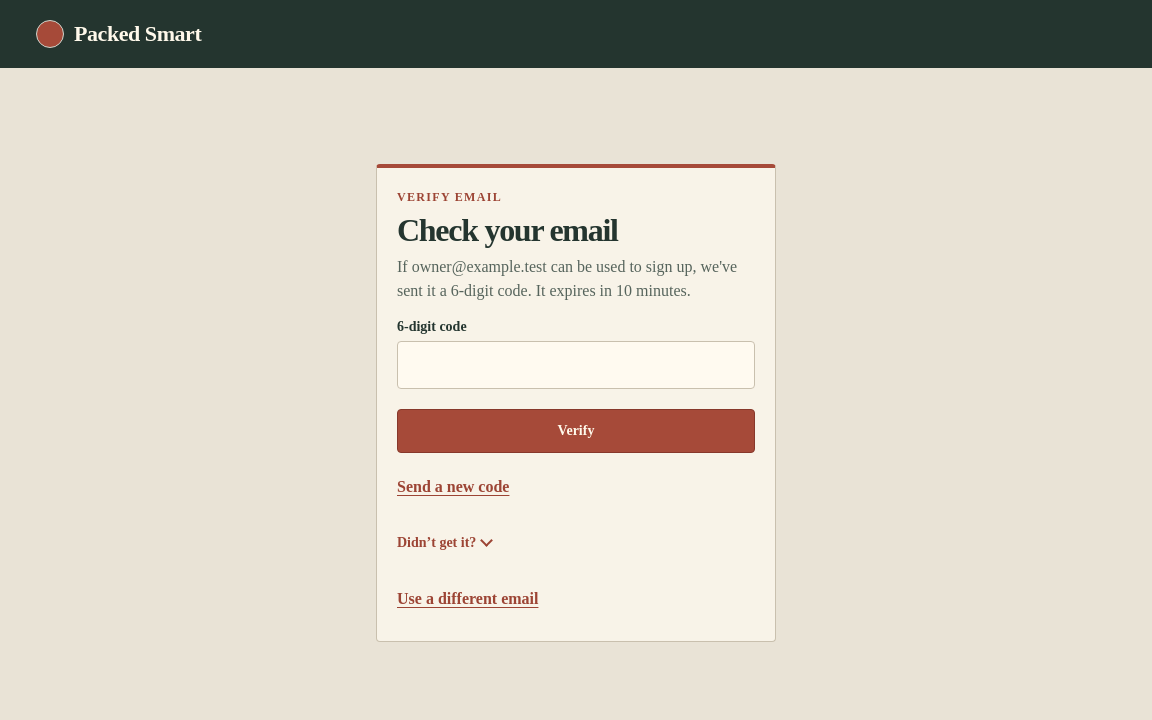
VerifyForm › strips anything but digits from what is typed or pasted
Step 1. Type "12 3-4x56" into the field labelled "6-digit code" → (576,365), box x1=397 y1=341 x2=755 y2=389
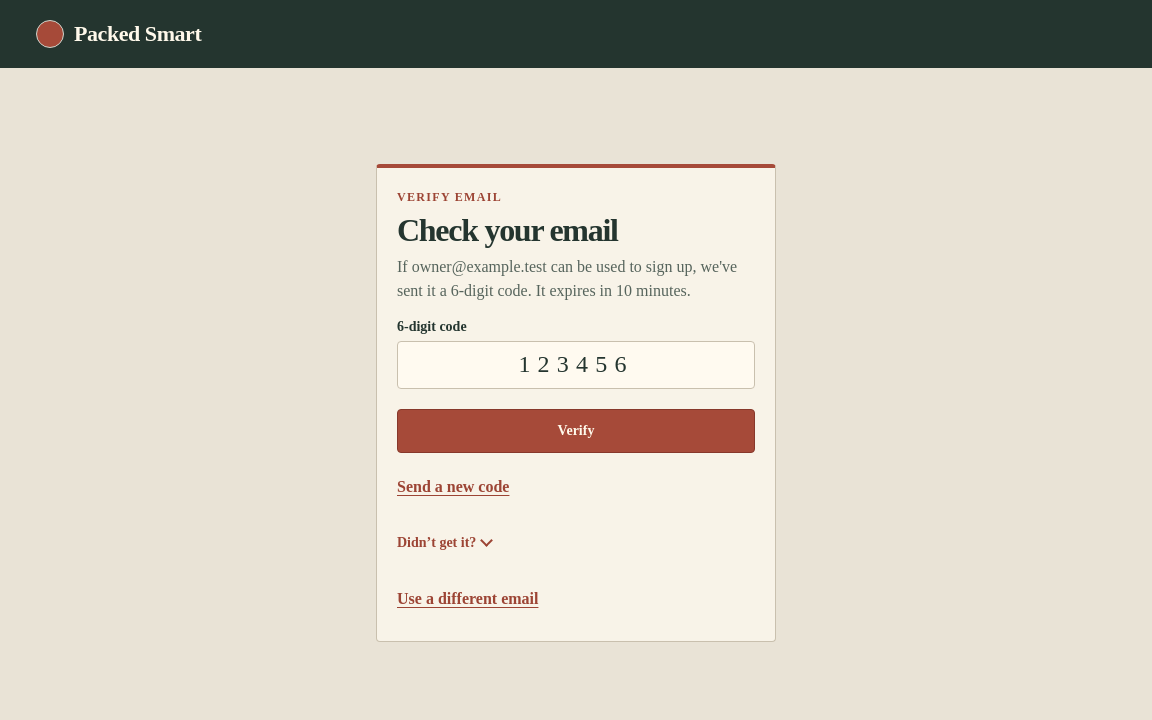
Expected: the field labelled "6-digit code" holds "123456", x1=397 y1=341 x2=755 y2=389
